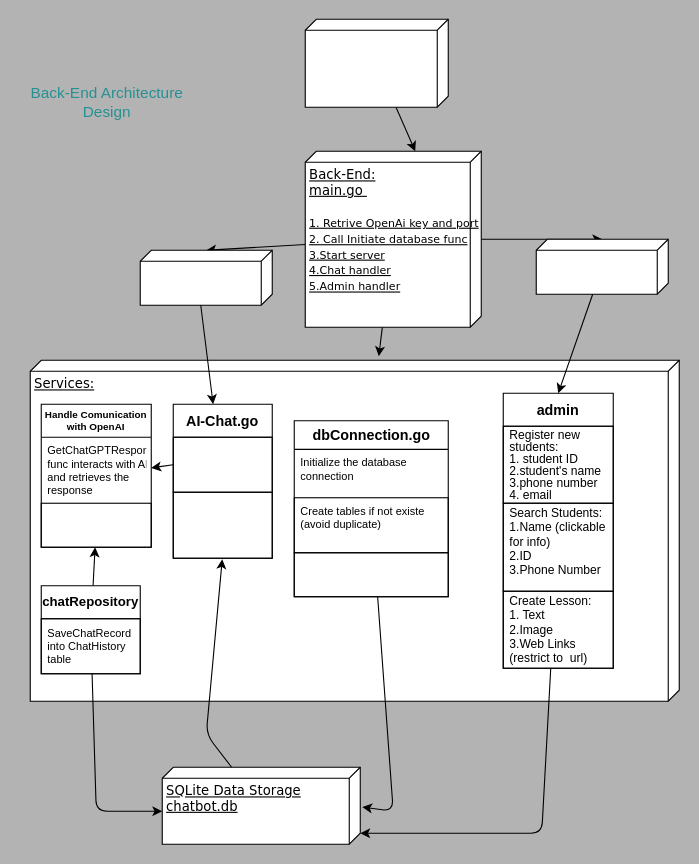
The diagram is 699 pixels wide and 864 high, and some of its shapes have lost their labels. Each missing label, with the centre of its shape:
"admin Routes" belongs at point 601,266.
"chat Routes" belongs at point 205,277.
"Close database" belongs at point 370,574.
"Front-End React, Redux," belongs at point 376,62.
"Process user input and return response" belongs at point 222,464.
"Retrive last 5 histories" belongs at point 222,524.
"Return the content / return error message" belongs at point 95,524.
